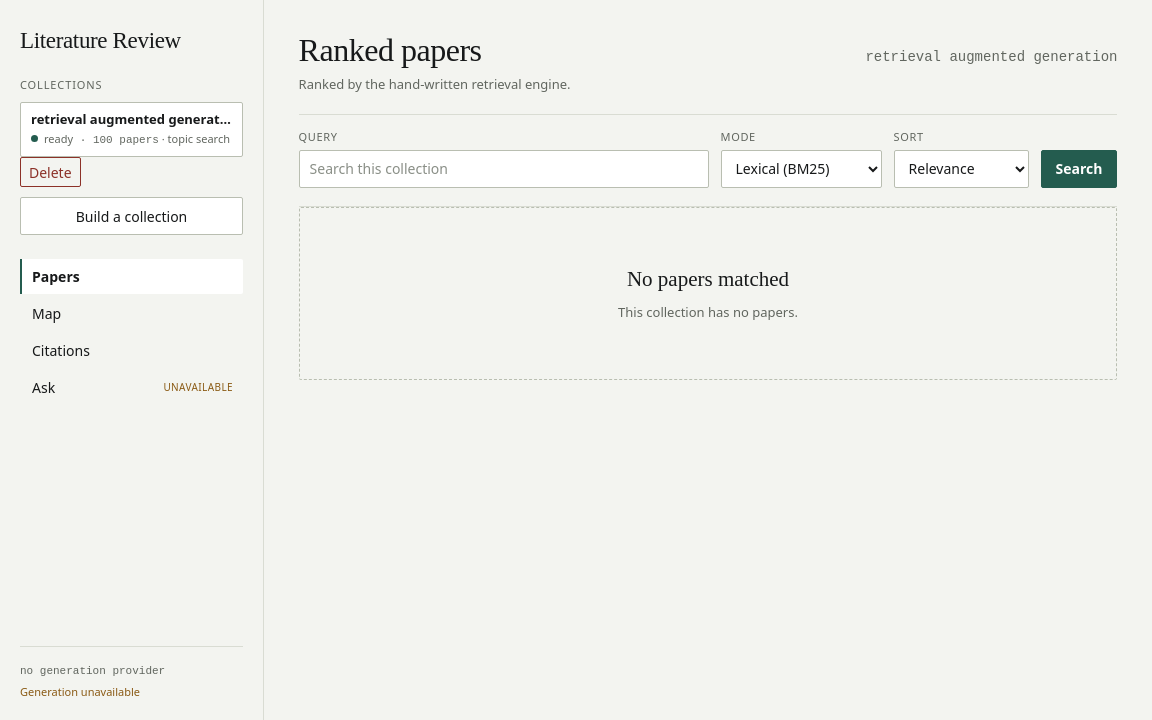
Test: deleting a collection › shows the empty state after the last collection is deleted
The image size is (1152, 720).
Click the button with aria-label "Delete the selected collection".
click(50, 172)  # box [20,157,81,187]
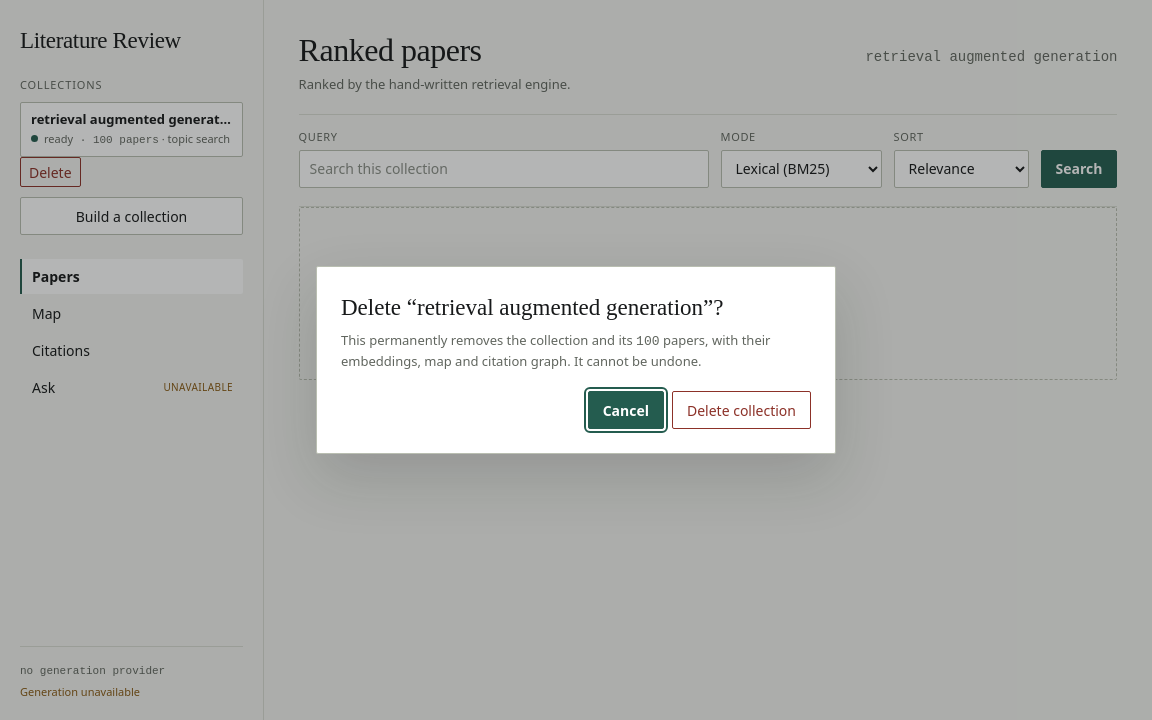
Click the button "Delete collection".
click(742, 410)  # box [672,391,811,429]
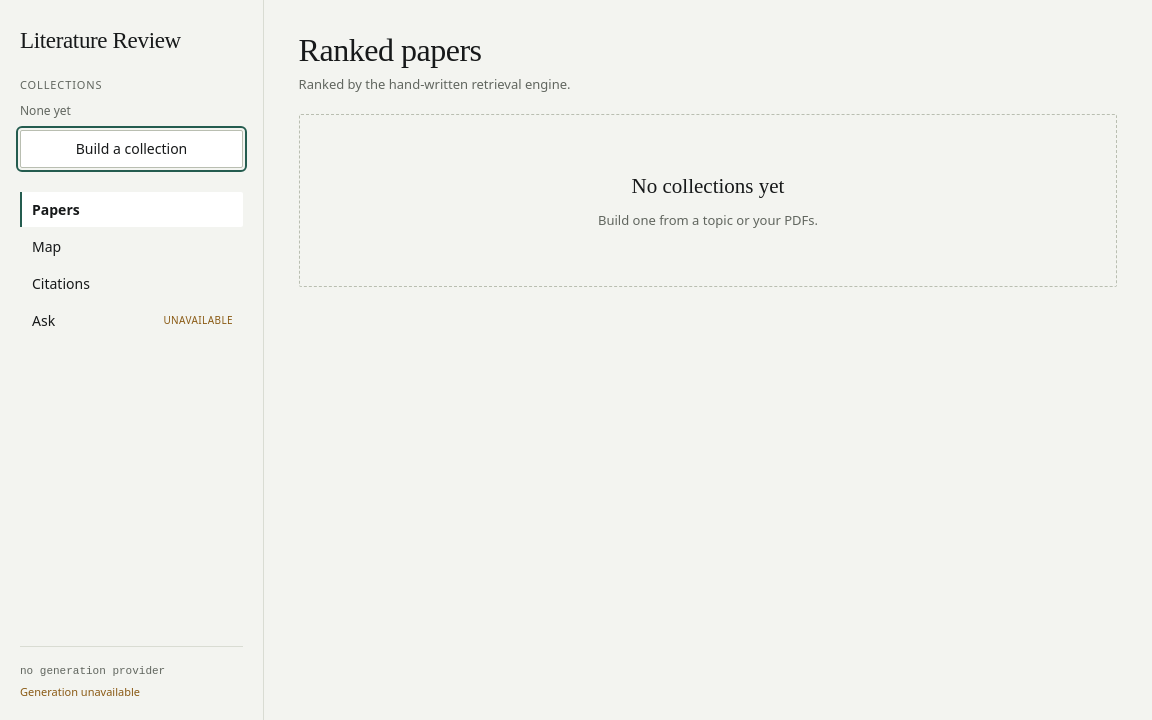
Result: the heading "No collections yet" is shown at [632,174,784,198]
